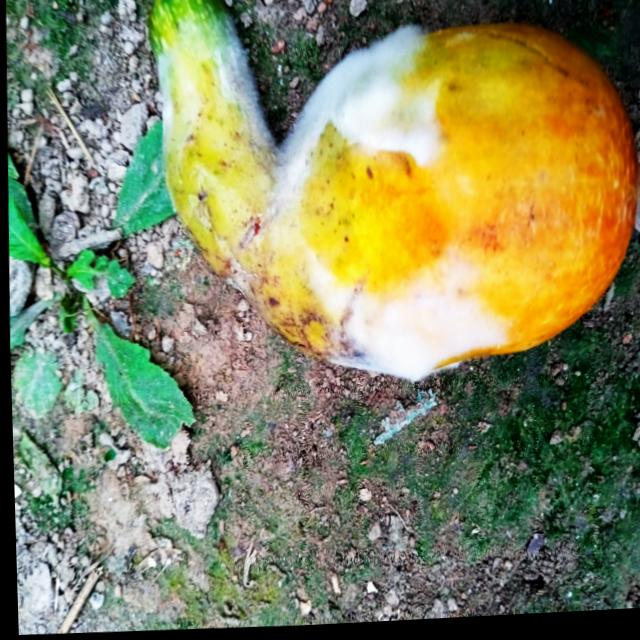Pythium-Fruit-Rot: (146, 9, 512, 403)
